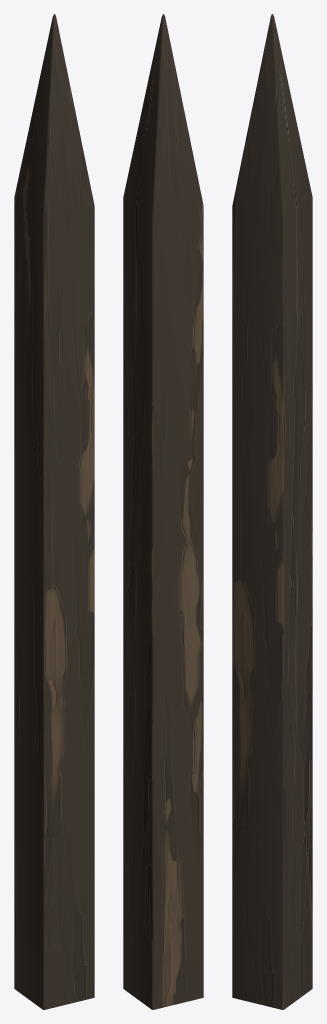
Rendered from Estaca.fbx.
The picture shows the model from 3 angles, left to right: view 1: azimuth 30°, elevation 25°; view 2: azimuth 210°, elevation 25°; view 3: azimuth 330°, elevation 25°; orthographic projection.
Parts seen in each view (by area): view 1: Estaca; view 2: Estaca; view 3: Estaca.
Boxes of the visible parts, x1=… form: Estaca: x1=14, y1=14, x2=94, y2=1009; Estaca: x1=123, y1=14, x2=203, y2=1009; Estaca: x1=232, y1=14, x2=312, y2=1009.
Bounding box in the file's own units: 5.53 × 99.81 × 5.53.
